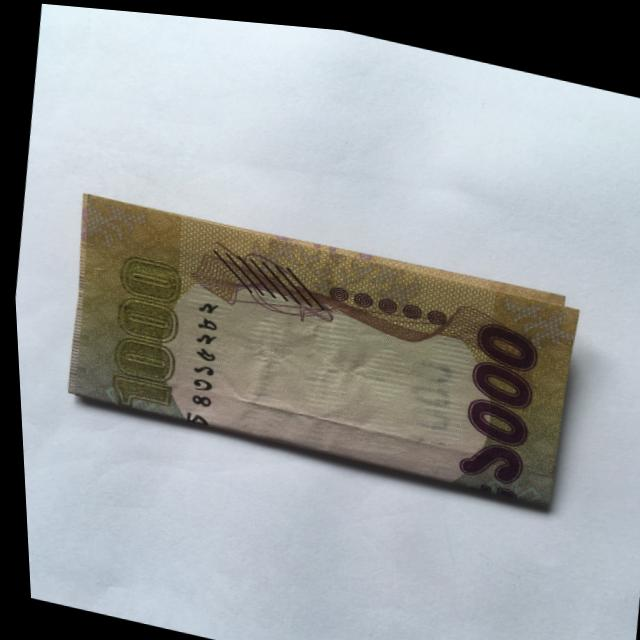Taka: (43, 178, 586, 509)
